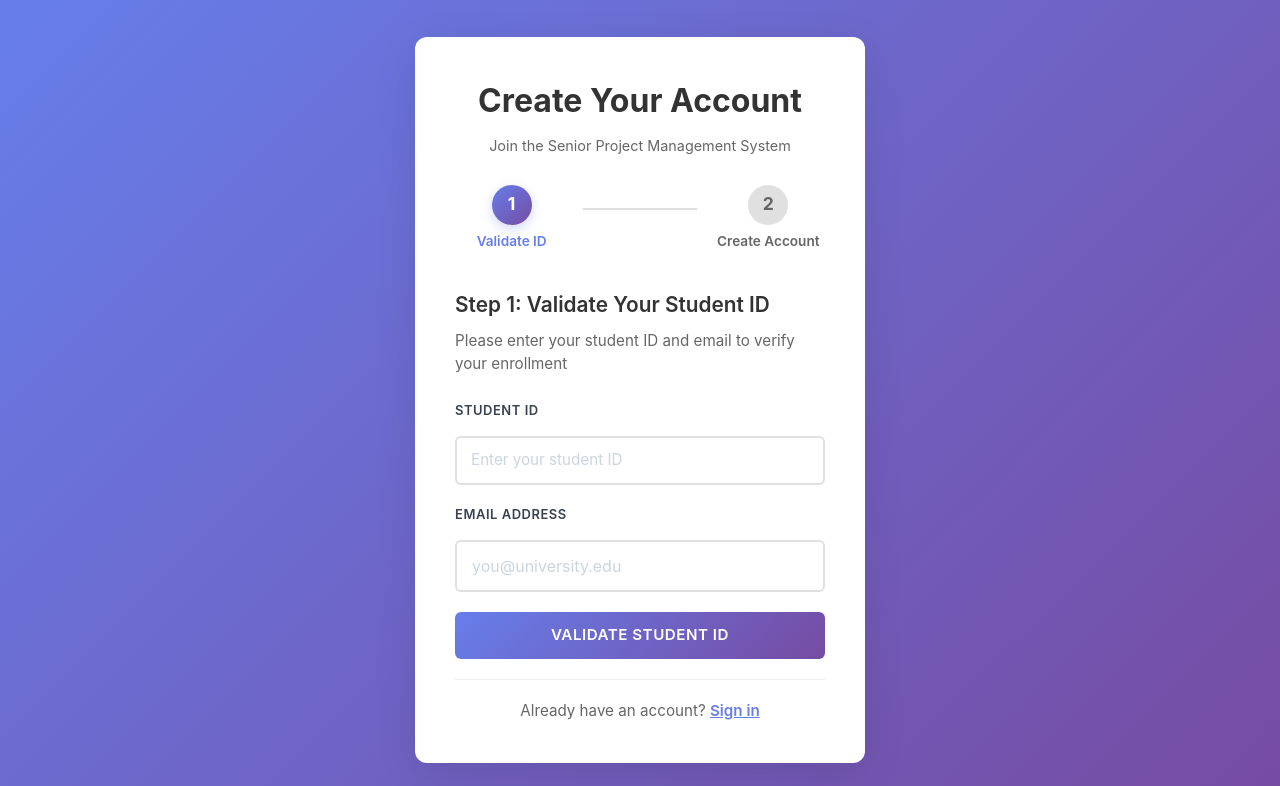
Scenario: RegisterForm (Two-Step Registration) › Step 2: Account Creation › validates password strength (min 8 chars, uppercase, number, special)
Step 1. Type "STU-123" into the field labelled "Student ID" → (640, 461), box [455, 436, 825, 485]
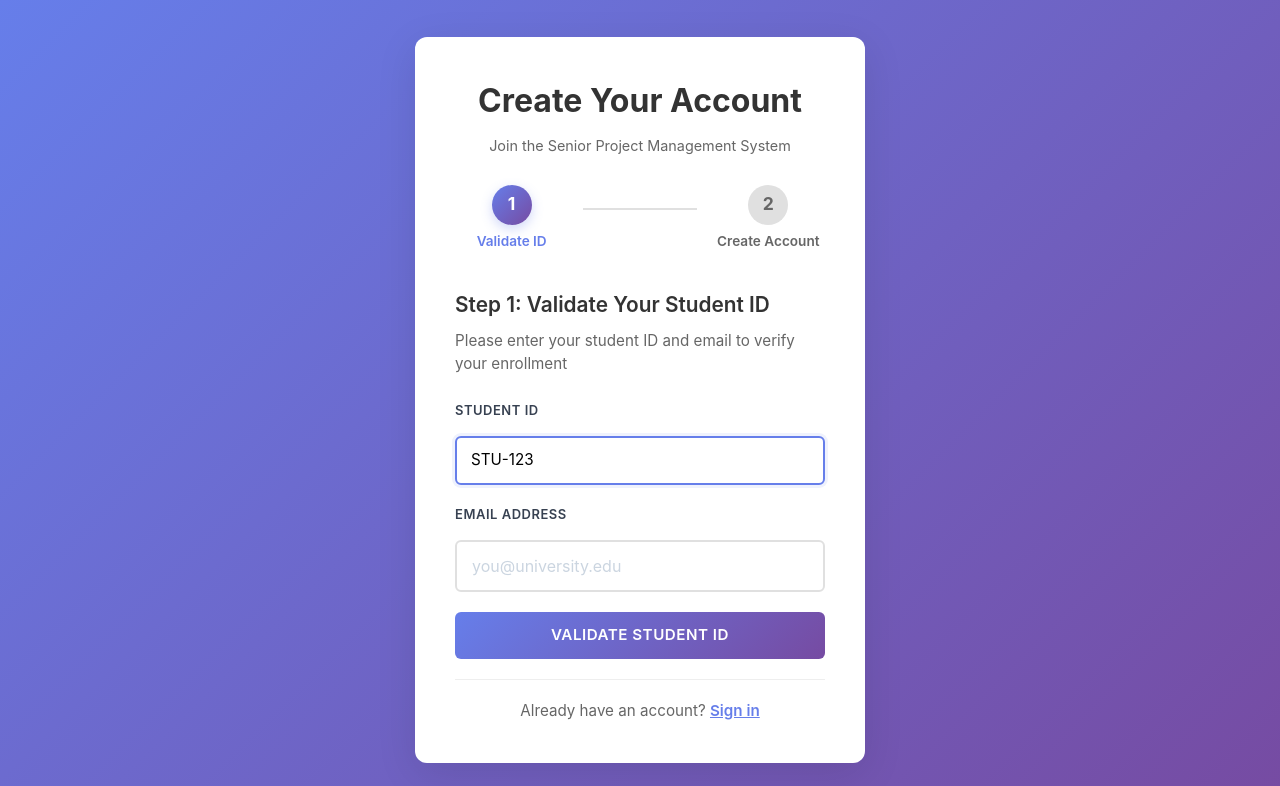
Step 2. Type "test@university.edu" into the field labelled "Email Address" → (640, 566), box [455, 540, 825, 592]
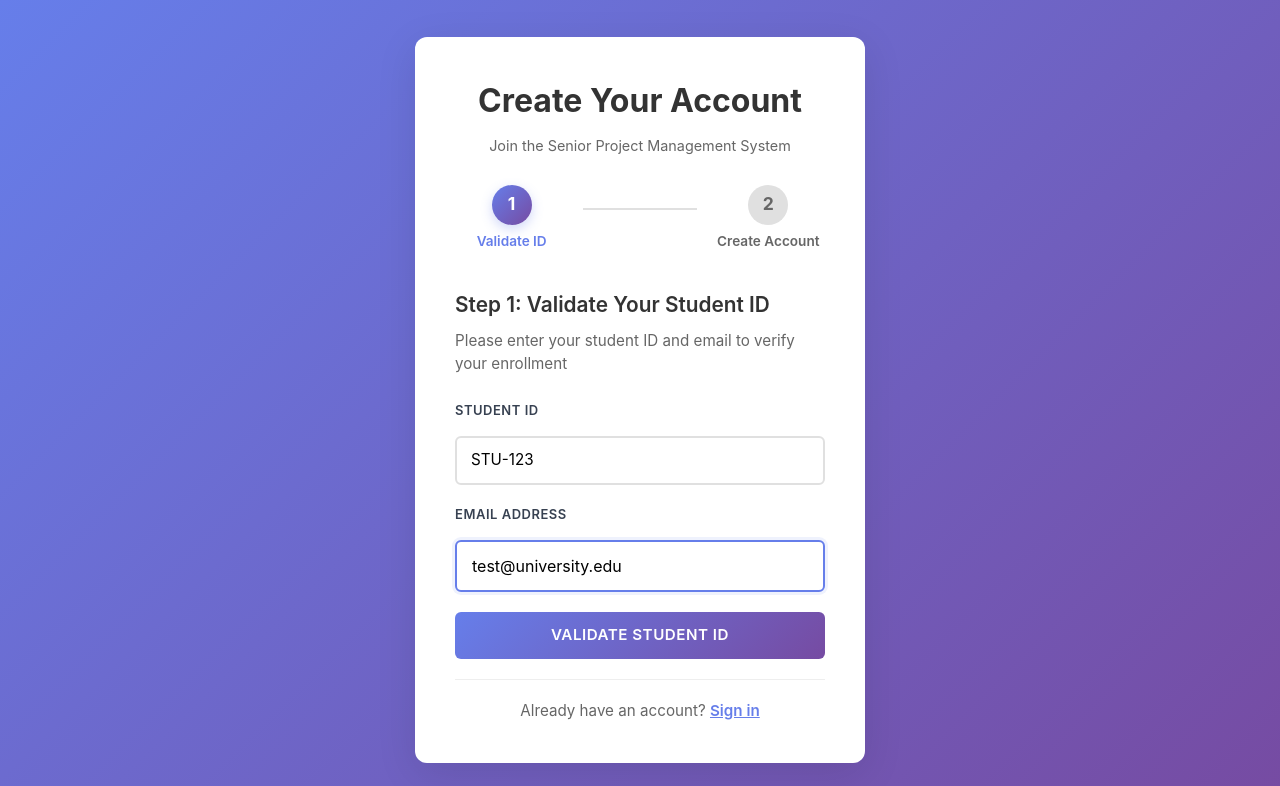
Step 3. Click the button "Validate Student ID" → (640, 636), box [455, 612, 825, 659]
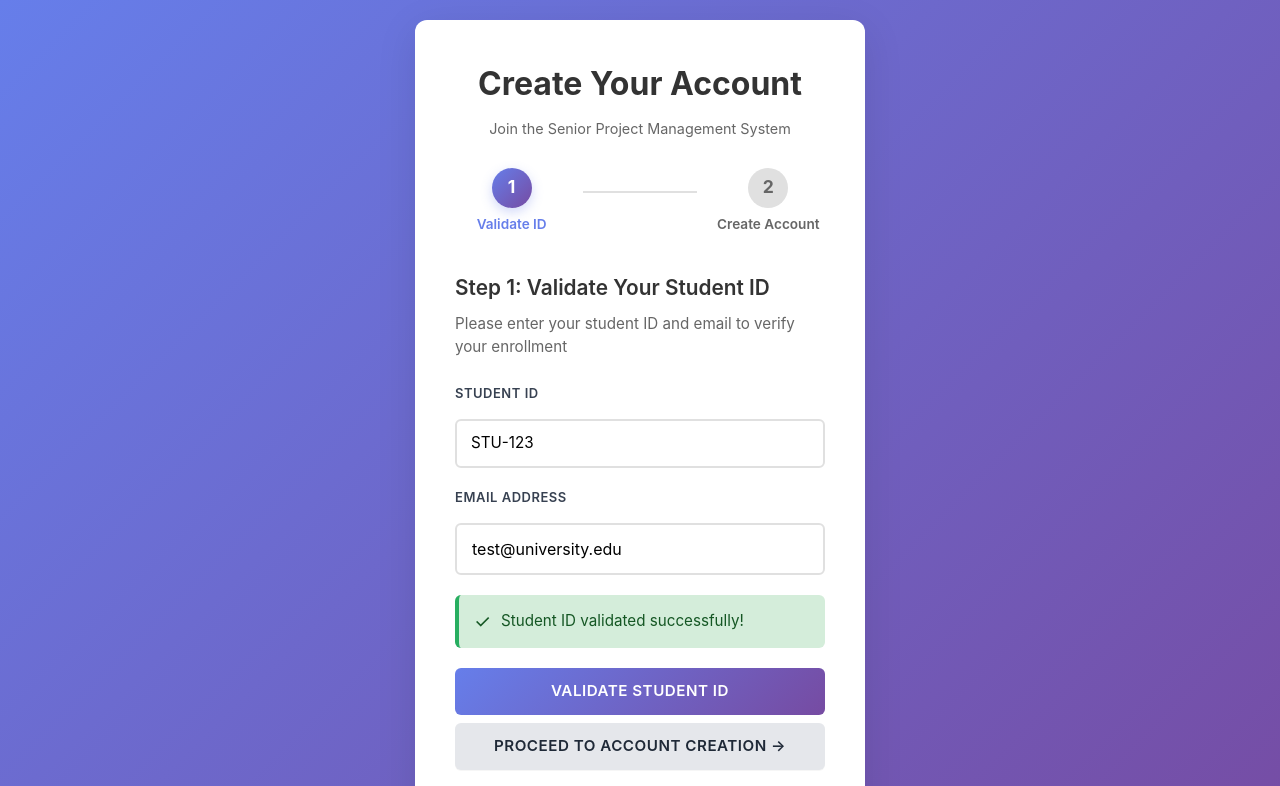
Result: the button "Proceed to Account Creation →" is shown
Step 4. Click the button "Proceed to Account Creation →" → (640, 746), box [455, 723, 825, 770]
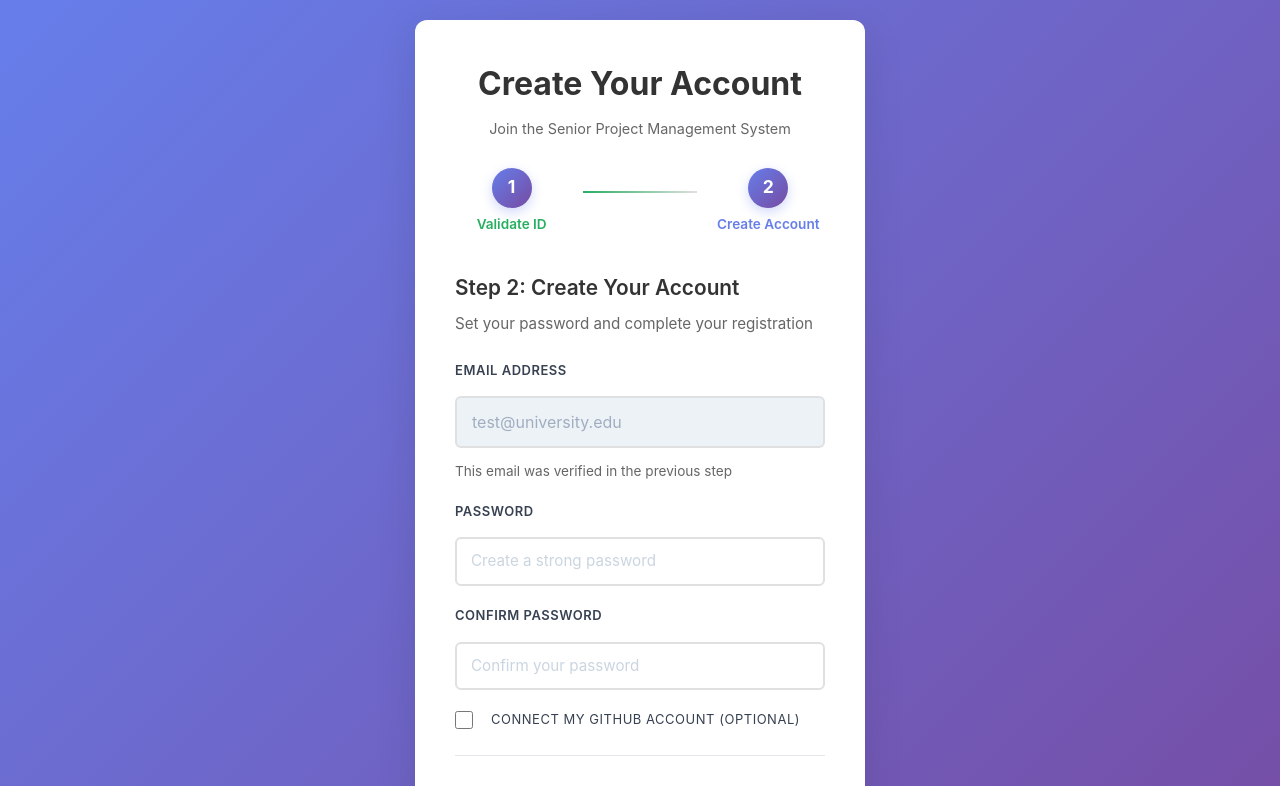
Step 5. Type "weak" into the password field labelled "Password" → (640, 562), box [455, 537, 825, 586]
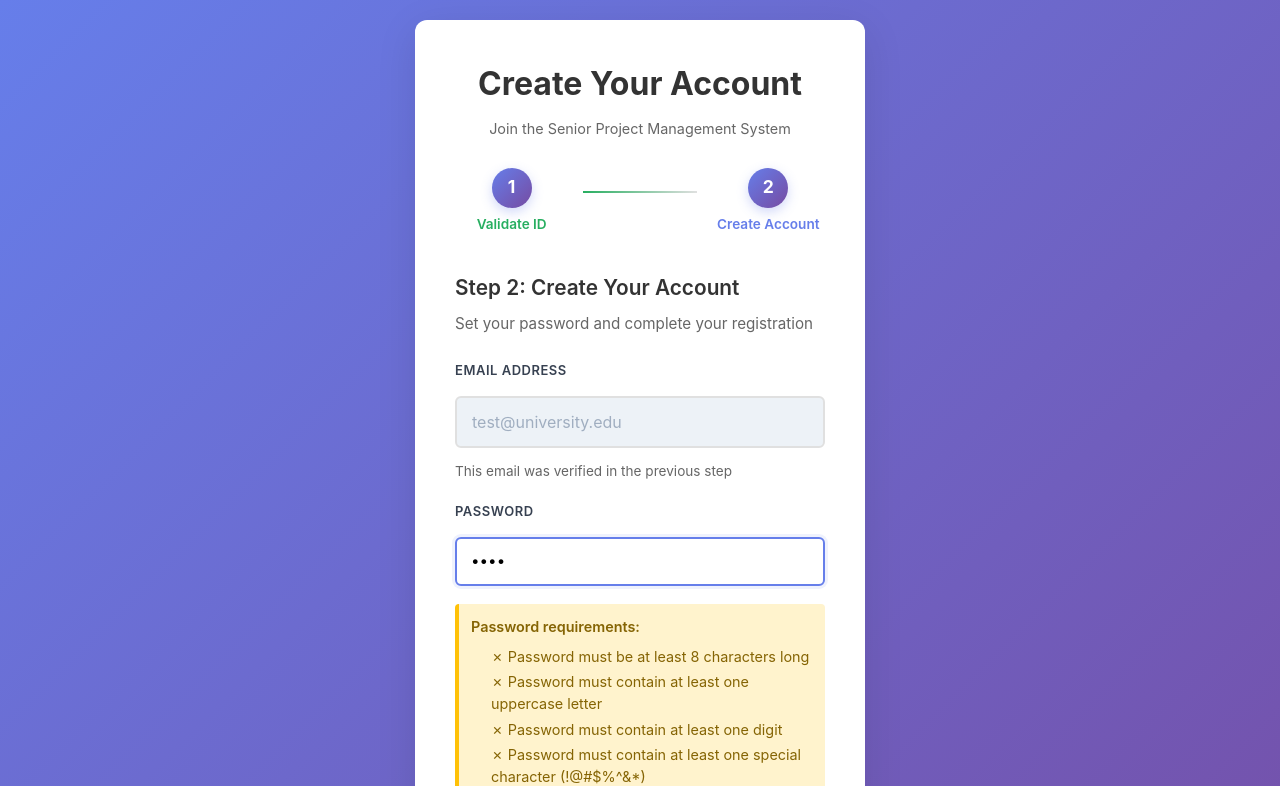
Result: the list item "✗ Password must be at least 8 characters long" is shown at [491, 646, 813, 667]
